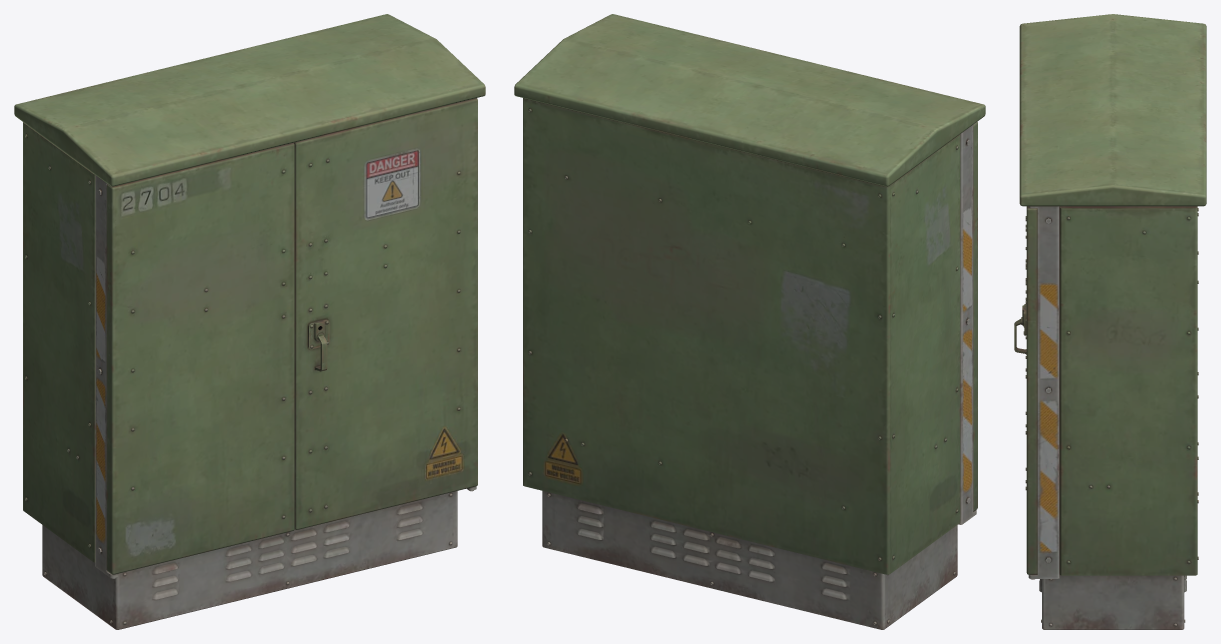
File: utility_box_02.glb
The picture shows the model from 3 angles, left to right: view 1: azimuth 30°, elevation 25°; view 2: azimuth 150°, elevation 25°; view 3: azimuth 270°, elevation 25°; orthographic projection. The views are drawn at different scales.
Parts seen in each view (by area): view 1: cabinet_LOD0; view 2: cabinet_LOD0; view 3: cabinet_LOD0.
Part boxes in pixels (bbox=[...]): cabinet_LOD0: bbox=[14, 14, 485, 629]; cabinet_LOD0: bbox=[514, 14, 985, 629]; cabinet_LOD0: bbox=[1014, 14, 1206, 629].
Size of what is drawn, in the model's own units: 0.9199 by 1.12 by 0.4319.
1 material, 1 textured.
